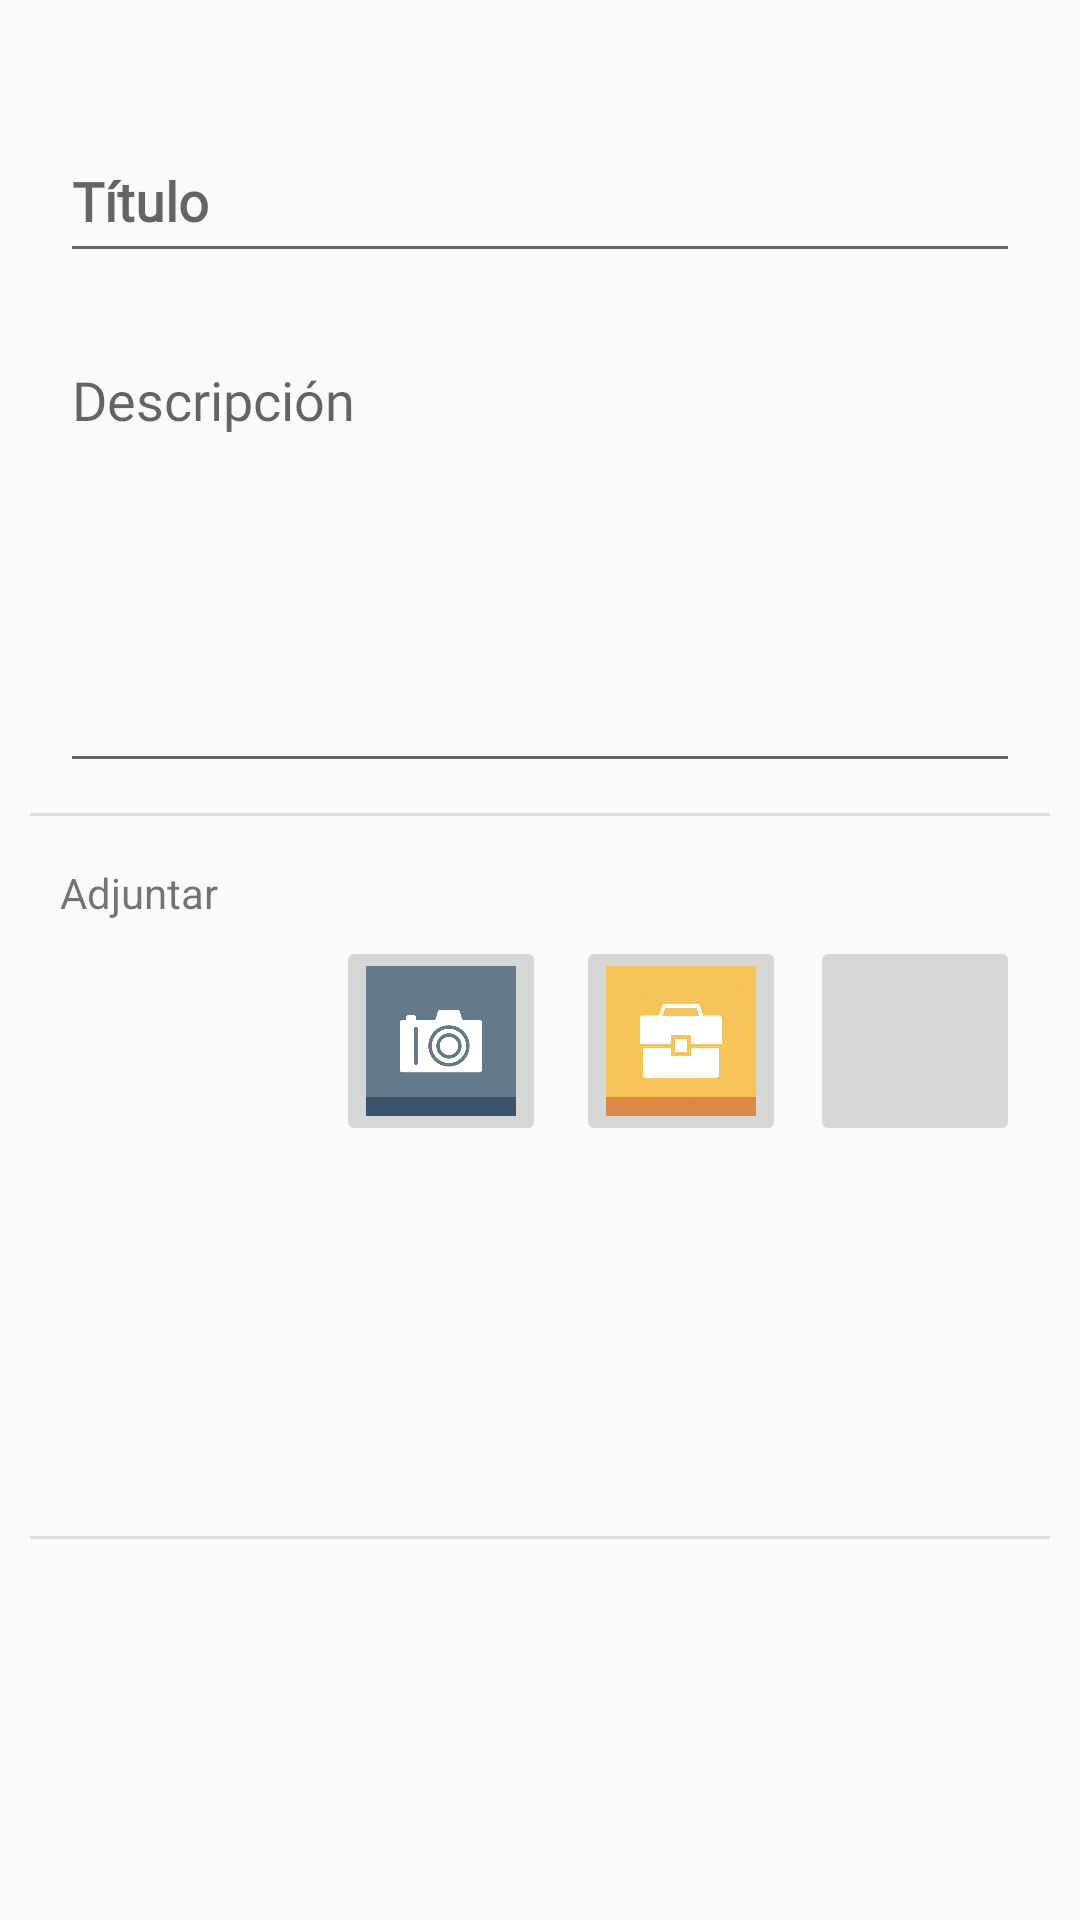

Screen size 1080×1920. Icon name, then its center in pixels as [x,y]:
camara: [441,1041]
